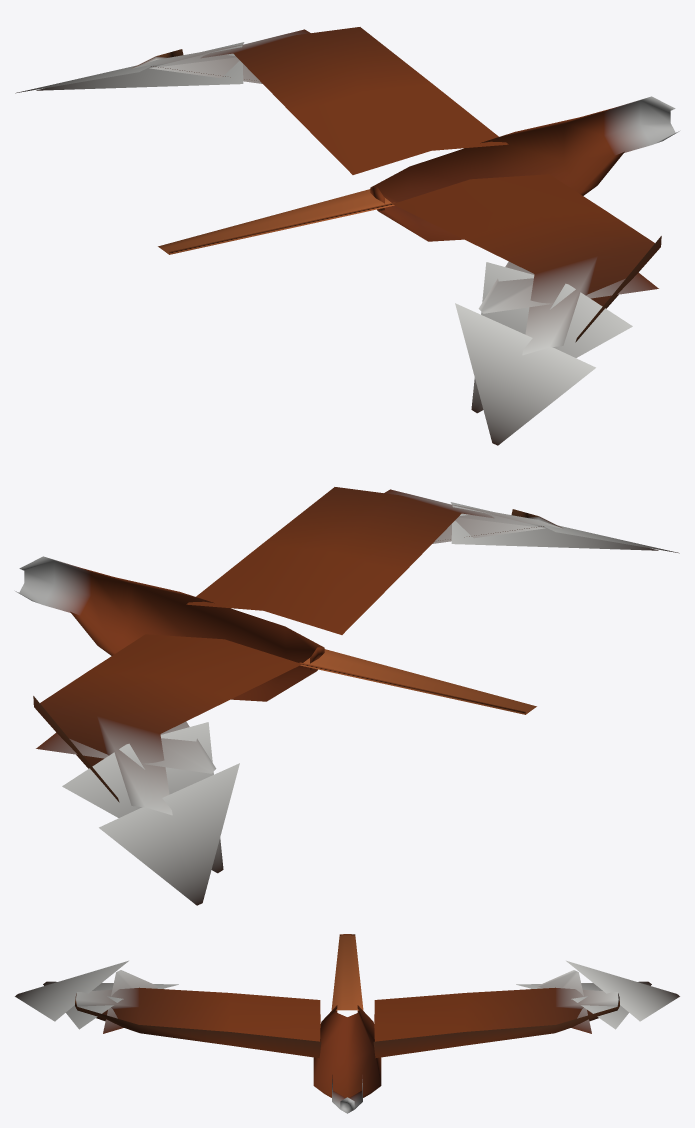
The model's file is SM_Bird_red_kite_flap3_LOD2.glb.
The picture shows the model from 3 angles, top to bottom: view 1: azimuth 30°, elevation 25°; view 2: azimuth 150°, elevation 25°; view 3: azimuth 270°, elevation 25°; orthographic projection. The views are drawn at different scales.
Parts seen in each view (by area): view 1: SM_Bird_red_kite_flap3_LOD2; view 2: SM_Bird_red_kite_flap3_LOD2; view 3: SM_Bird_red_kite_flap3_LOD2.
Part boxes in pixels (box(x1,y1,x2,y2)): SM_Bird_red_kite_flap3_LOD2: box(15, 27, 679, 445); SM_Bird_red_kite_flap3_LOD2: box(15, 487, 679, 905); SM_Bird_red_kite_flap3_LOD2: box(15, 934, 679, 1113).
Size of the model in its own units: 0.686 by 0.1444 by 1.12.
